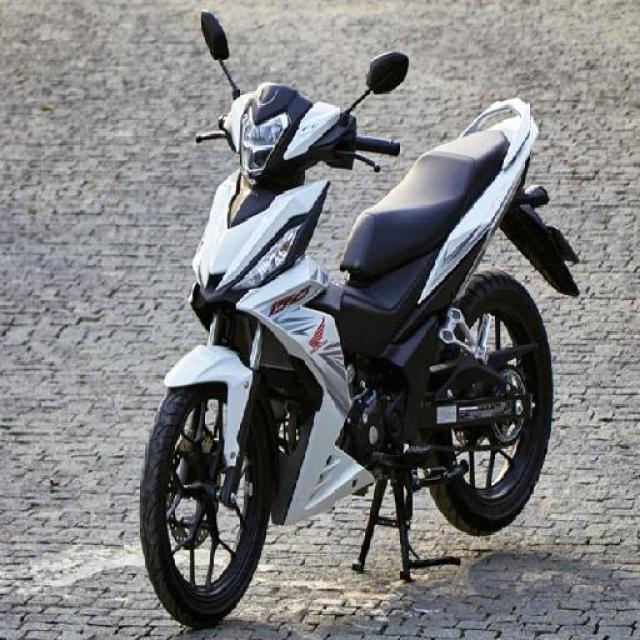All: (133, 72, 591, 629)
Head: (196, 87, 404, 180)
Tail: (463, 91, 549, 180)
